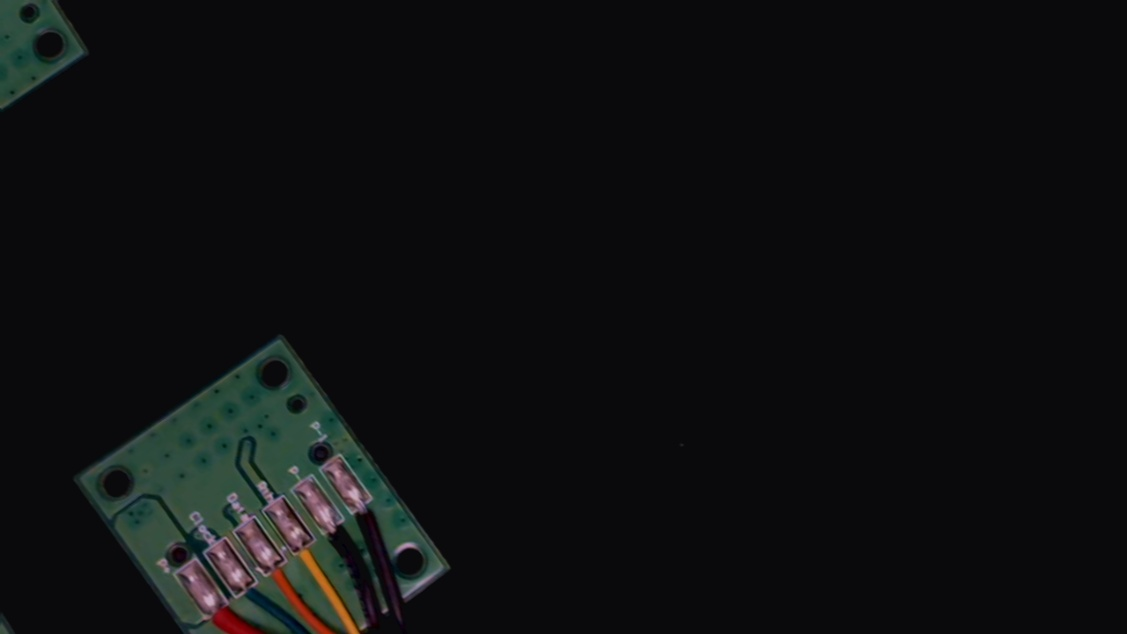Black: (310, 506, 366, 570)
Black1: (342, 483, 399, 548)
Green: (223, 566, 282, 632)
Orange: (253, 547, 313, 616)
Red: (192, 588, 252, 634)
Yellow: (279, 524, 341, 595)
